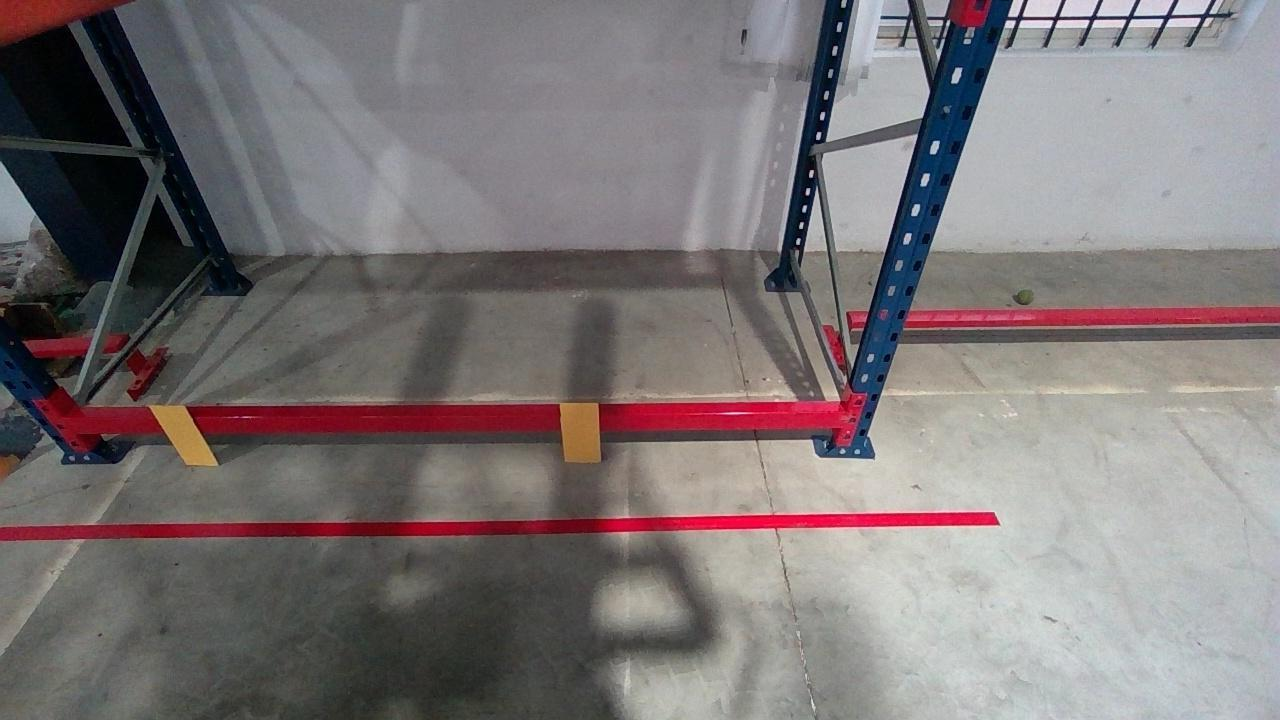h_rack: (43, 410, 847, 435)
orange_strip: (144, 405, 223, 467), (556, 403, 601, 462)
red_line: (1, 511, 1000, 539)
